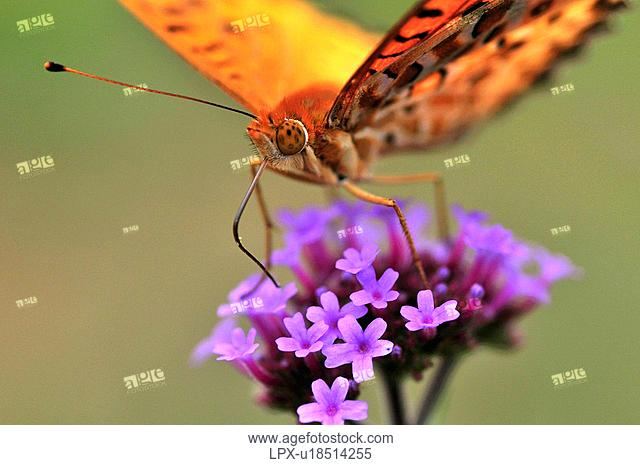Argyreus hyperbius: (39, 1, 637, 299)
butterfly: (41, 2, 639, 301)
